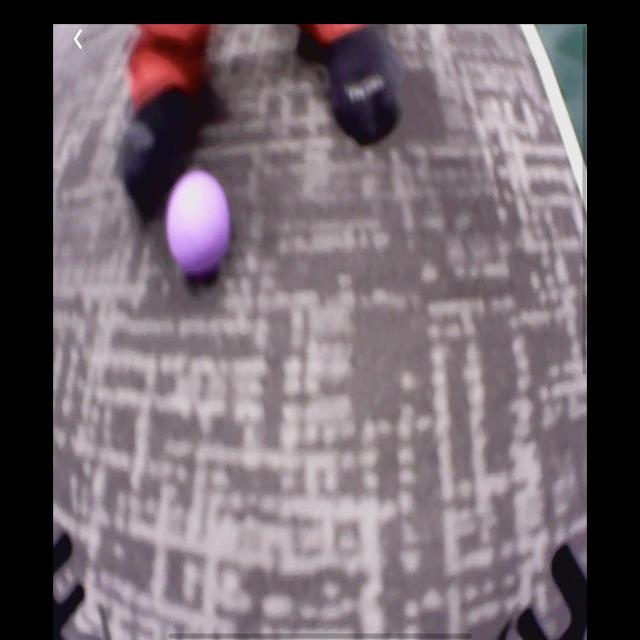ball: (167, 171, 230, 276)
